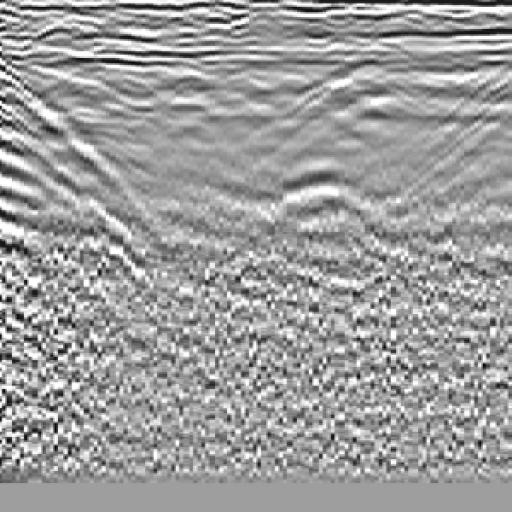metalic: (245, 41, 406, 293)
nonmetalic: (1, 49, 120, 309)
